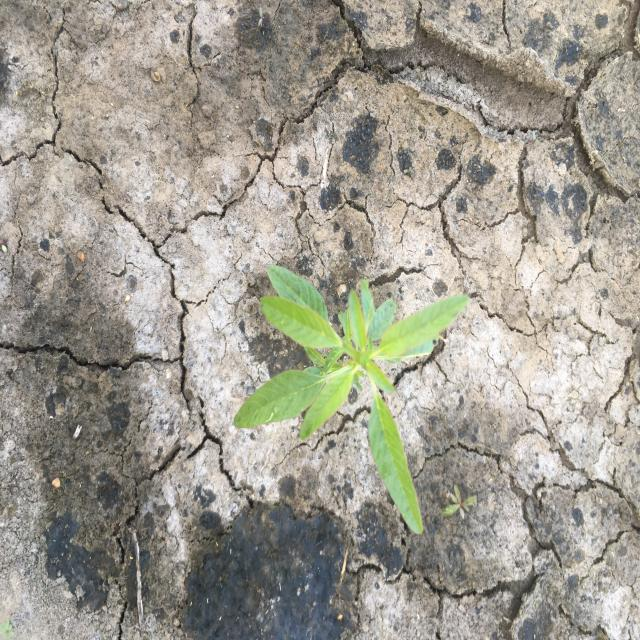Waterhemp: (232, 264, 471, 536)
